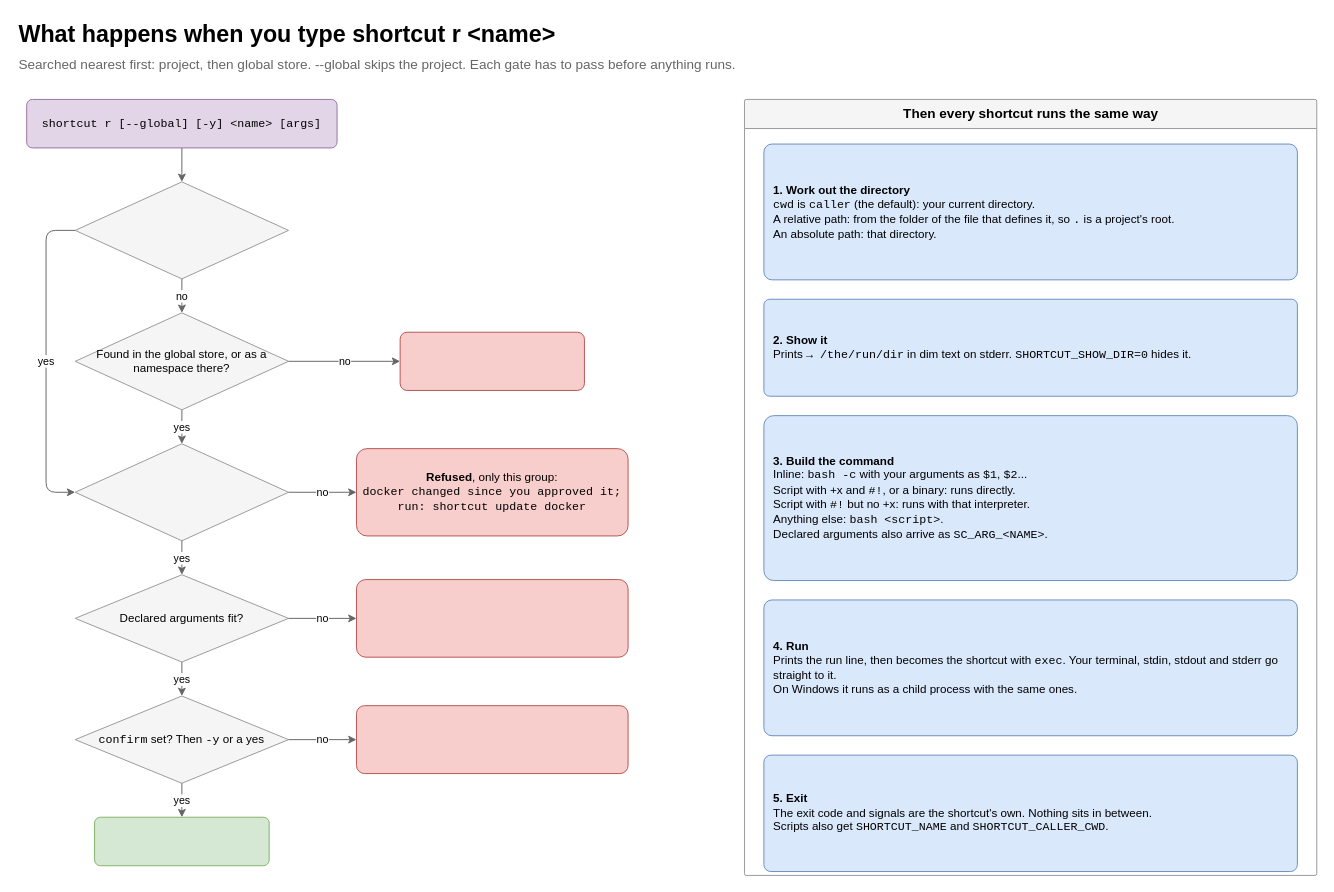
Some shapes in this 1334 by 892 pixel diagram are drawn without their labels. The shapes that lost their labels are listed below. From the top down, each one's centre as x and y in pixels, then its label:
At (x=181, y=230): "Found in the project, or as a namespace there?".
At (x=491, y=360): "Error : not found".
At (x=181, y=492): "Group approved and unchanged?".
At (x=492, y=618): "Refused , exit 2: usage: shortcut r kill <container> [signal]".
At (x=492, y=739): "Refused : answered no, or no terminal and no -y".
At (x=181, y=841): "Run it".
